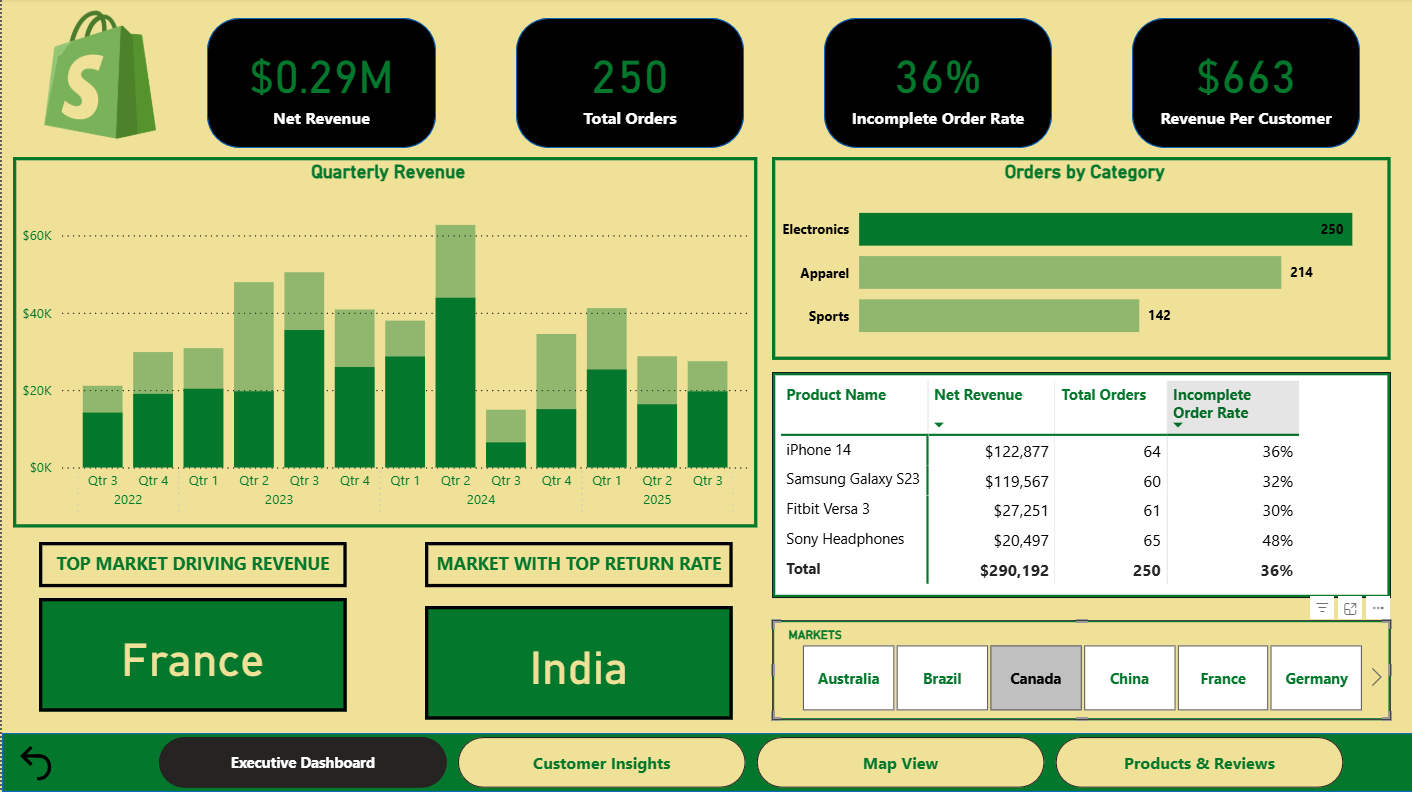

What the dashboard file says about the page in this screenshot:
{"tool":"powerbi","page":{"name":"Executive Dashboard","canvas":[1280,720],"ordinal":0},"visuals":[{"type":"shape","box":[1024.7,18.1,206.8,117.9],"z":0},{"type":"shape","box":[745.4,18.1,206.8,117.9],"z":1000},{"type":"shape","box":[0,666.5,1280.4,53.5],"z":2000},{"type":"image","box":[0,4.5,177.7,129.7],"z":3000},{"type":"shape","box":[290.2,229.4,207.7,117.9],"z":4000},{"type":"shape","box":[394.5,177.7,206.8,117.9],"z":5000},{"type":"shape","box":[466.1,18.1,206.8,117.9],"z":6000},{"type":"shape","box":[185.9,18.1,207.7,117.9],"z":7000},{"type":"card","fields":{"Values":["Measures Table.Net Revenue"]},"box":[200.4,27.2,178.6,98.8],"z":8000},{"type":"card","fields":{"Values":["Measures Table.Return Rate"]},"box":[759.9,27.2,177.7,98.8],"z":9000},{"type":"card","fields":{"Values":["Measures Table.Total Orders"]},"box":[480.6,27.2,177.7,98.8],"z":10000},{"type":"card","fields":{"Values":["Measures Table.Average Revenue Per Customer"]},"box":[1039.2,27.2,177.7,98.8],"z":11000},{"type":"clusteredColumnChart","title":"Quarterly Revenue","fields":{"Y":["Measures Table.Net Revenue"],"Category":["Calendar Lookup.Start of Month.Variation.Date Hierarchy.Year","Calendar Lookup.Start of Month.Variation.Date Hierarchy.Quarter"]},"box":[10,144.2,674.7,335.5],"z":12000},{"type":"pivotTable","fields":{"Rows":["Products_Table.PRODUCT NAME"],"Values":["Measures Table.Net Revenue","Measures Table.Total Orders","Measures Table.Return Rate"]},"box":[698.2,339.1,561.3,204.9],"z":13000},{"type":"clusteredBarChart","title":"Orders by Category","fields":{"Category":["Products_Table.CATEGORY"],"Y":["Measures Table.Total Orders"]},"box":[698.2,144.2,561.3,184.1],"z":14000},{"type":"card","fields":{"Values":["Min(Customers Table.COUNTRY)"]},"box":[33.6,544.1,279.3,103.4],"z":15000},{"type":"textbox","box":[33.6,493.3,279.3,40.8],"z":16000},{"type":"card","fields":{"Values":["Min(Customers Table.COUNTRY)"]},"box":[383.6,551.3,279.3,103.4],"z":17000},{"type":"textbox","box":[383.6,493.3,279.3,40.8],"z":18000},{"type":"slicer","fields":{"Values":["Customers Table.COUNTRY"]},"box":[698.2,564,561.3,90.7],"z":19000},{"type":"actionButton","box":[10,672.8,47.2,41.7],"z":20000},{"type":"bookmarkNavigator","box":[142.4,670.1,1074.6,46.2],"z":20001}]}

Visuals, with their boxes in screenshot pixels (x1, y1, x2, y2), scaled from the page's 1280x720 canvas onto the 1412x792 screenshot:
shape: bbox=[1130, 20, 1358, 150]
shape: bbox=[822, 20, 1050, 150]
shape: bbox=[0, 733, 1411, 791]
image: bbox=[0, 5, 196, 148]
shape: bbox=[320, 252, 549, 382]
shape: bbox=[435, 195, 663, 325]
shape: bbox=[514, 20, 742, 150]
shape: bbox=[205, 20, 434, 150]
card - Measures Table.Net Revenue: bbox=[221, 30, 418, 139]
card - Measures Table.Return Rate: bbox=[838, 30, 1034, 139]
card - Measures Table.Total Orders: bbox=[530, 30, 726, 139]
card - Measures Table.Average Revenue Per Customer: bbox=[1146, 30, 1342, 139]
"Quarterly Revenue" clusteredColumnChart: bbox=[11, 159, 755, 528]
pivotTable - Products_Table.PRODUCT NAME x Measures Table.Net Revenue: bbox=[770, 373, 1389, 598]
"Orders by Category" clusteredBarChart: bbox=[770, 159, 1389, 361]
card - Min(Customers Table.COUNTRY): bbox=[37, 599, 345, 712]
textbox: bbox=[37, 543, 345, 588]
card - Min(Customers Table.COUNTRY): bbox=[423, 606, 731, 720]
textbox: bbox=[423, 543, 731, 588]
slicer - Customers Table.COUNTRY: bbox=[770, 620, 1389, 720]
actionButton: bbox=[11, 740, 63, 786]
bookmarkNavigator: bbox=[157, 737, 1343, 788]
